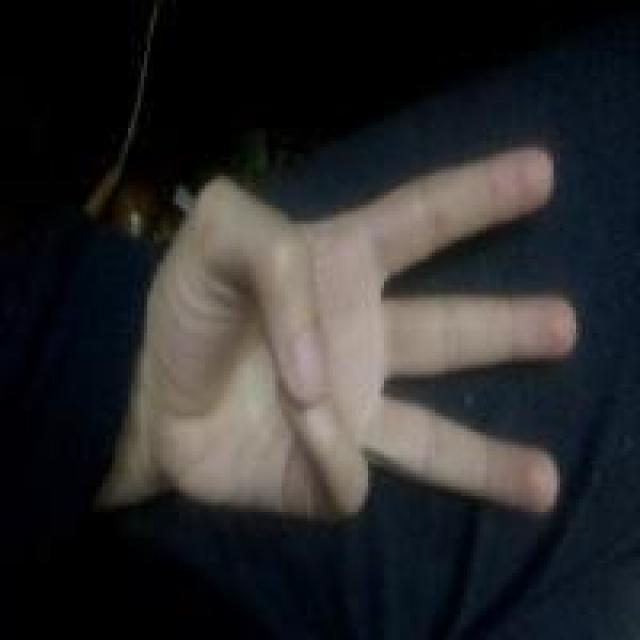W: (146, 54, 536, 480)
